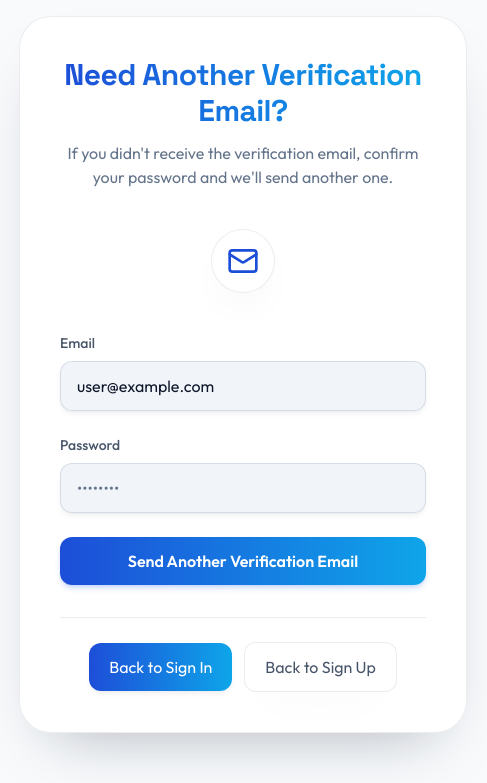
Resend Verification Page › shows the API error message when the resend request fails
This screenshot has width=487, height=783.
Type "Password123#" into the password field labelled "Password" at (243, 488), box top-left (60, 463), bottom-right (426, 513)
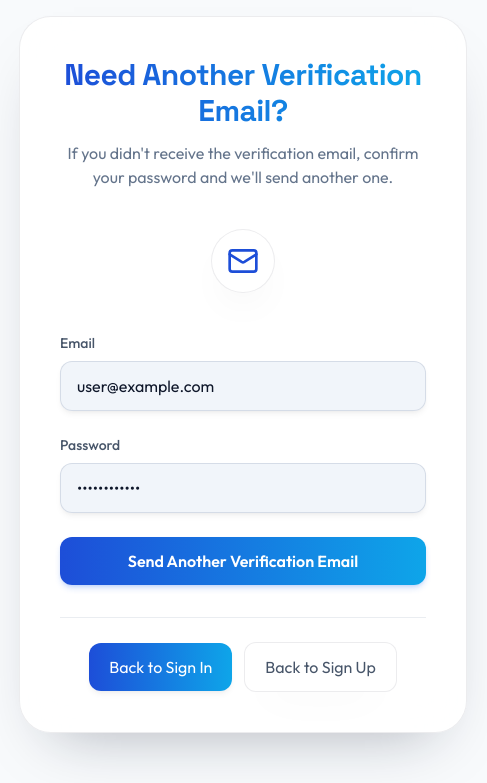
Click the button "Send Another Verification Email" at (243, 561), box top-left (60, 537), bottom-right (426, 585)
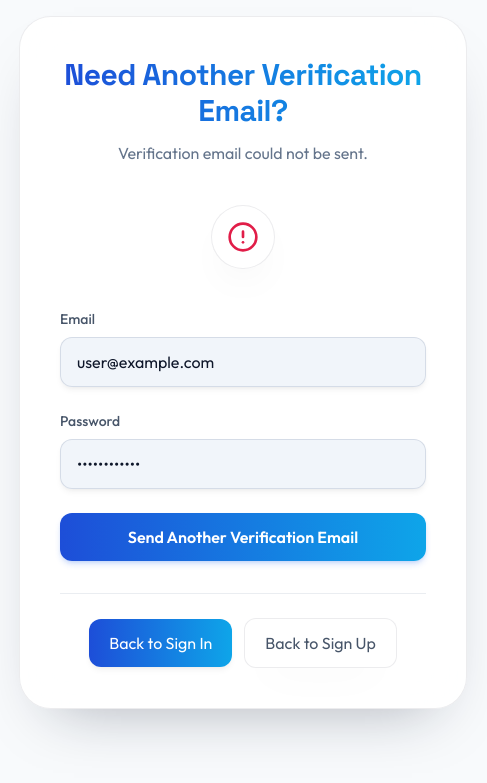
Check: the button "Send Another Verification Email" is shown, box top-left (60, 513), bottom-right (426, 561)
Check: the text "Verification email could not be sent." is shown, box top-left (118, 143), bottom-right (368, 163)
